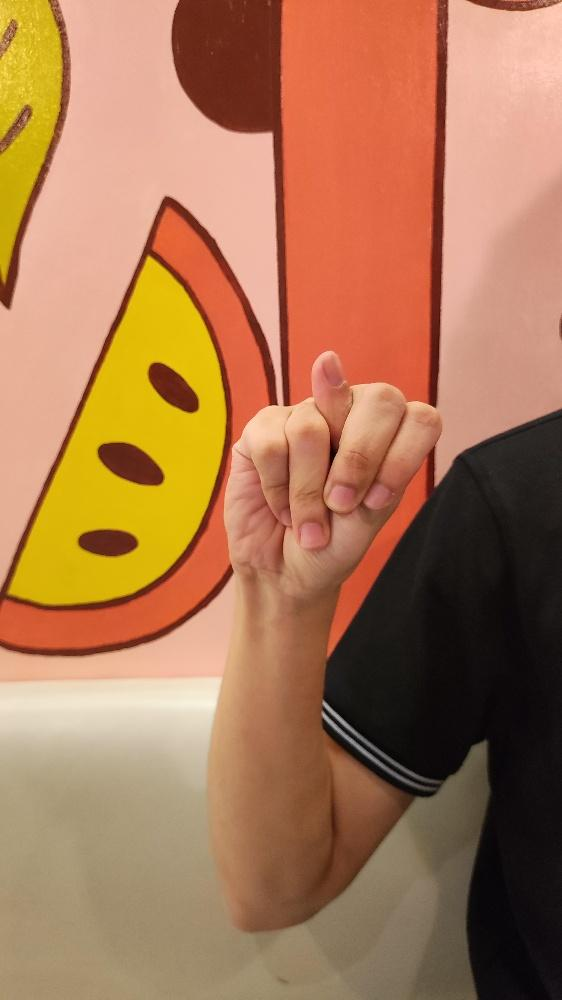n: (220, 346, 443, 595)
